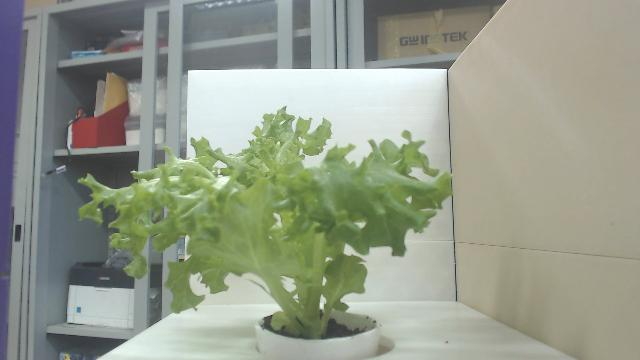Harvest Stage: (76, 105, 454, 338)
